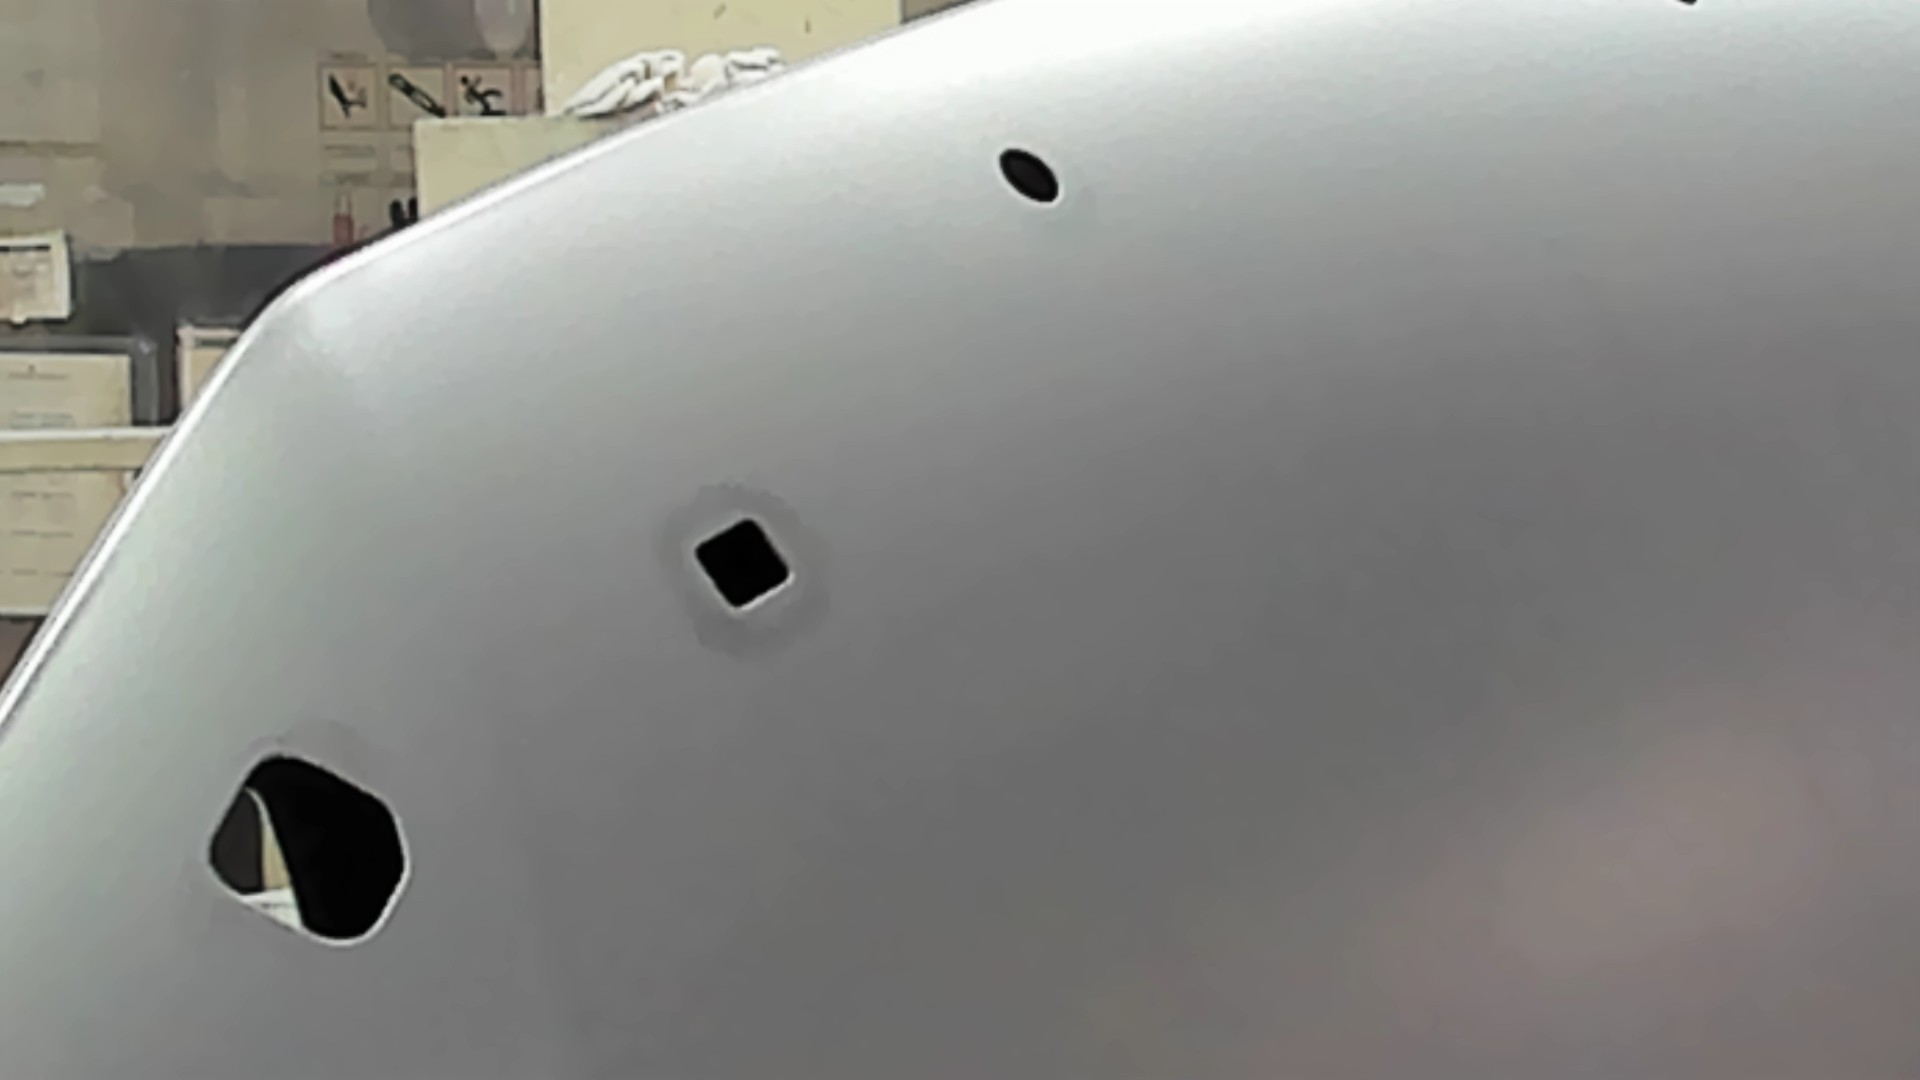capo: (799, 211, 1920, 1080)
chico: (993, 145, 1064, 208)
grande: (196, 746, 415, 960)
mediano: (688, 509, 800, 622)
